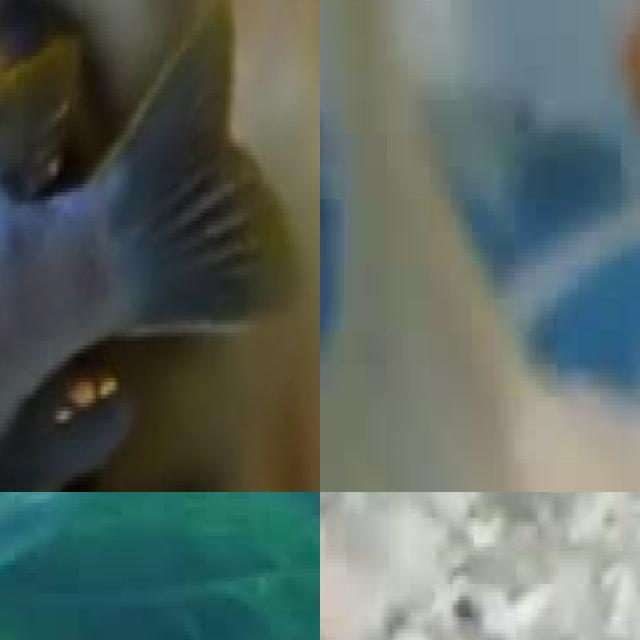fish: (0, 0, 320, 492), (331, 372, 640, 492)
